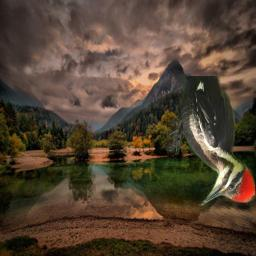Woodpecker: (167, 76, 255, 206)
